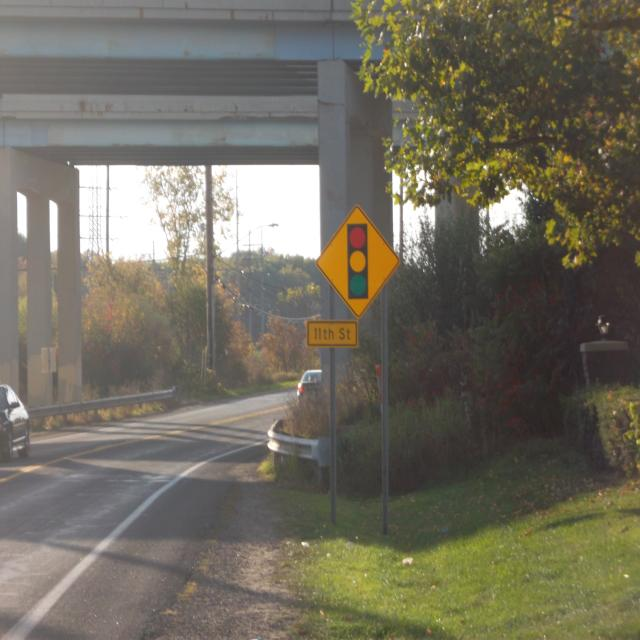warning: (315, 204, 401, 320)
